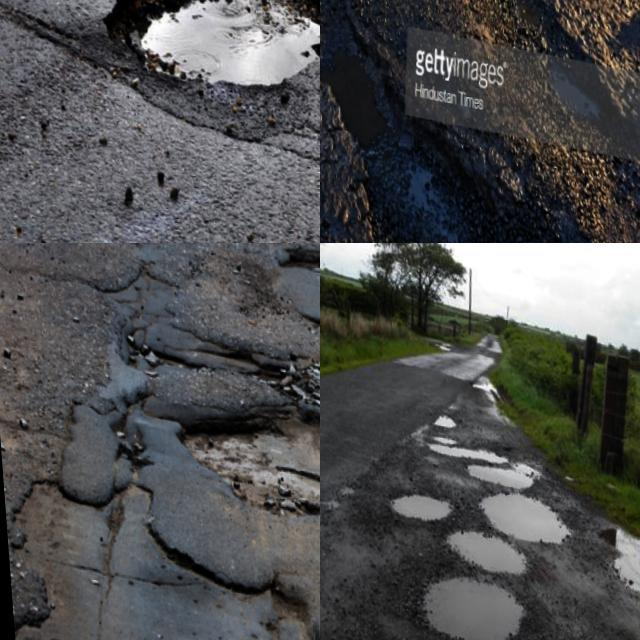Potholes: (0, 430, 320, 640), (47, 0, 320, 169), (433, 0, 640, 196), (354, 455, 580, 628), (138, 344, 320, 554), (320, 0, 455, 243), (356, 535, 640, 640), (396, 400, 551, 517), (58, 285, 185, 423), (572, 499, 640, 640), (453, 353, 508, 420), (102, 243, 171, 268)
